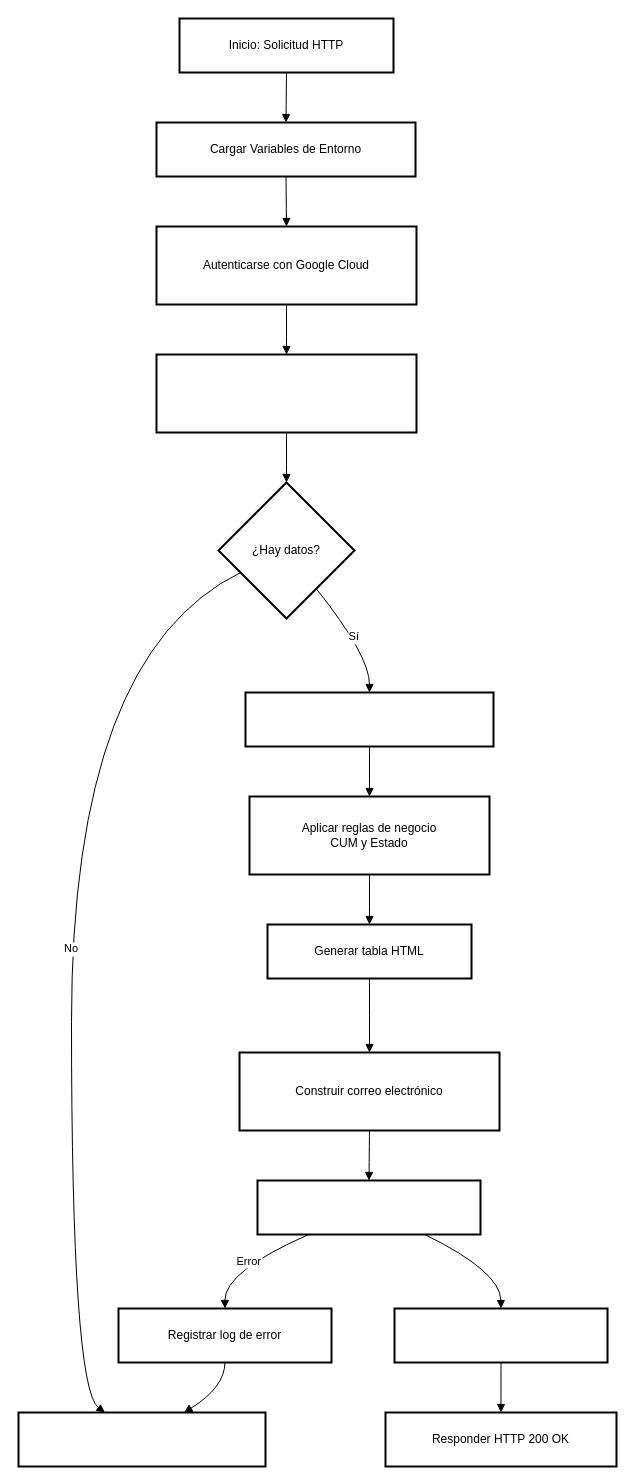
Image size: 634x1484. Some labels were removed from this diagram. Each missing label, with the box of its shape:
Enviar correo vía SMTP: (256, 1179, 481, 1235)
Leer datos desde Google Sheets: (155, 353, 417, 433)
Procesar datos con Pandas: (244, 691, 494, 747)
Registrar log de éxito: (393, 1307, 608, 1363)
Responder HTTP 500 Error: (17, 1411, 266, 1467)
